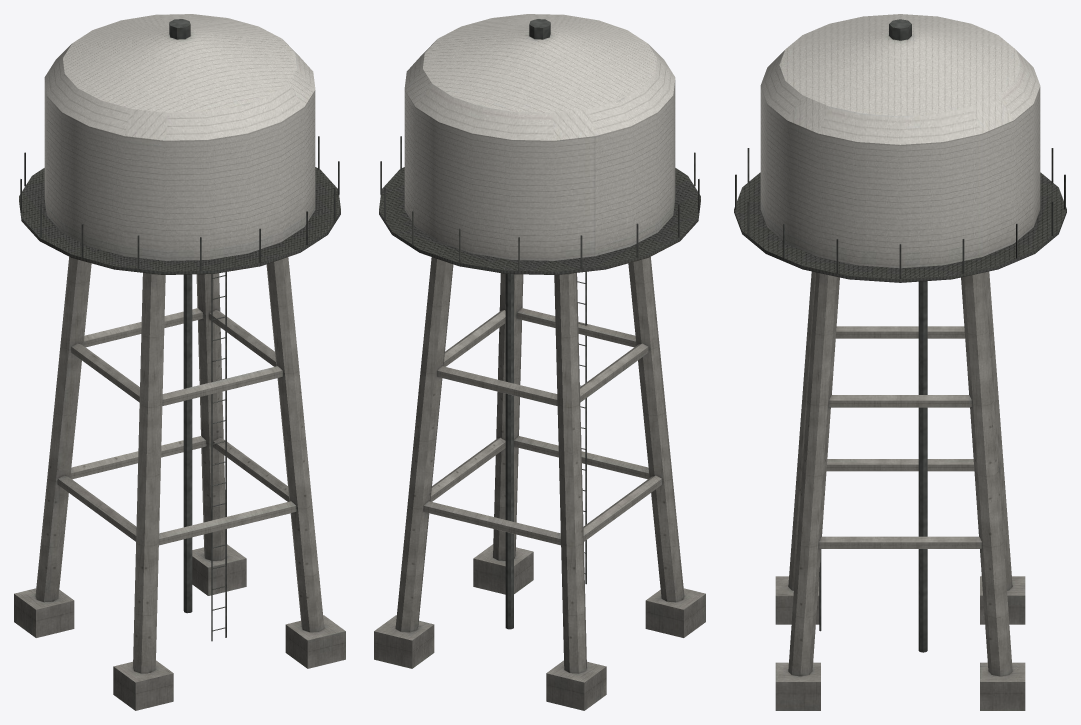
Rendered from water_tower.glb.
The picture shows the model from 3 angles, left to right: view 1: azimuth 30°, elevation 25°; view 2: azimuth 150°, elevation 25°; view 3: azimuth 270°, elevation 25°; orthographic projection. The views are drawn at different scales.
Visible parts, largest first — view 1: water_tower; view 2: water_tower; view 3: water_tower.
Part boxes in pixels (x1=…): water_tower: x1=14, y1=14, x2=345, y2=710; water_tower: x1=374, y1=14, x2=705, y2=710; water_tower: x1=734, y1=14, x2=1066, y2=710.
Bounding box in the file's own units: 8.8 × 18.53 × 8.8.
1 material, 1 textured.
